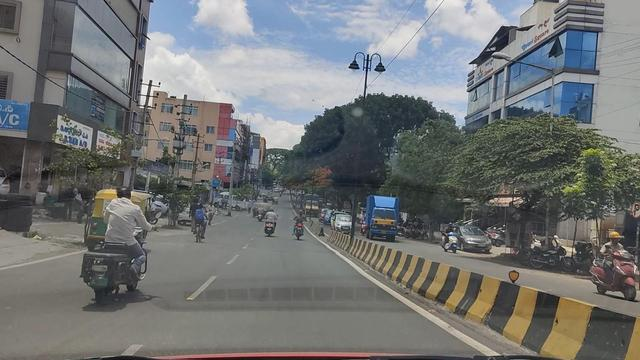LMV: (104, 192, 156, 315), (81, 183, 150, 246)
